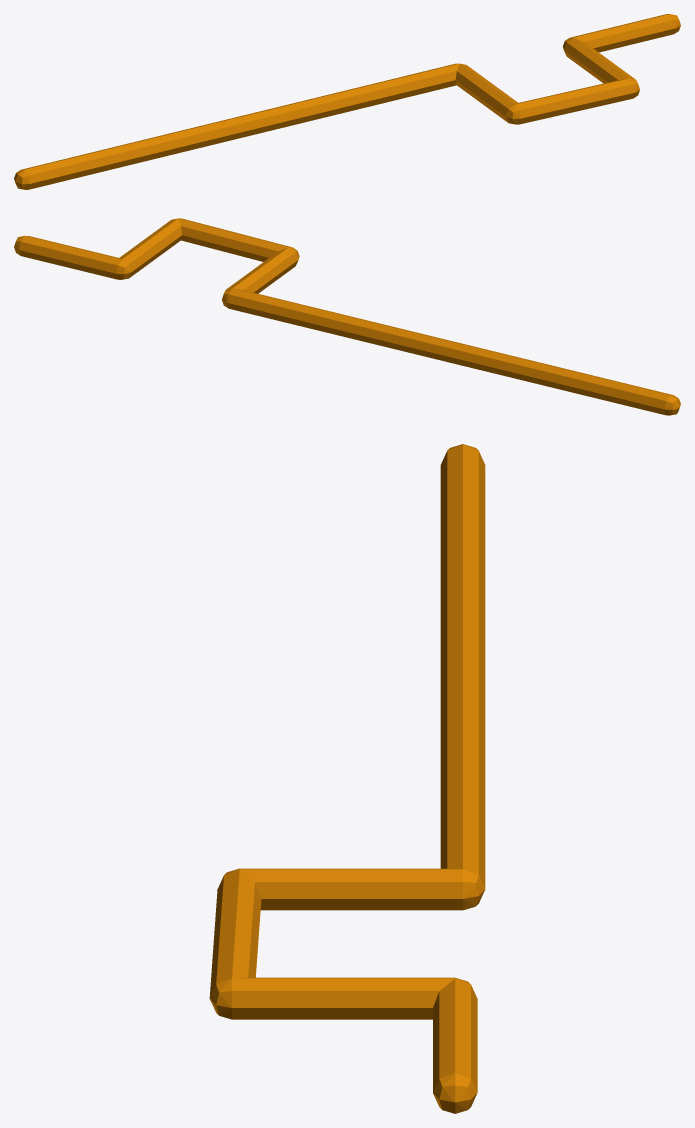
The picture shows the model from 3 angles, top to bottom: view 1: azimuth 30°, elevation 25°; view 2: azimuth 150°, elevation 25°; view 3: azimuth 270°, elevation 25°; orthographic projection. The views are drawn at different scales.
Bounding box in the file's own units: 686 × 20 × 124.
